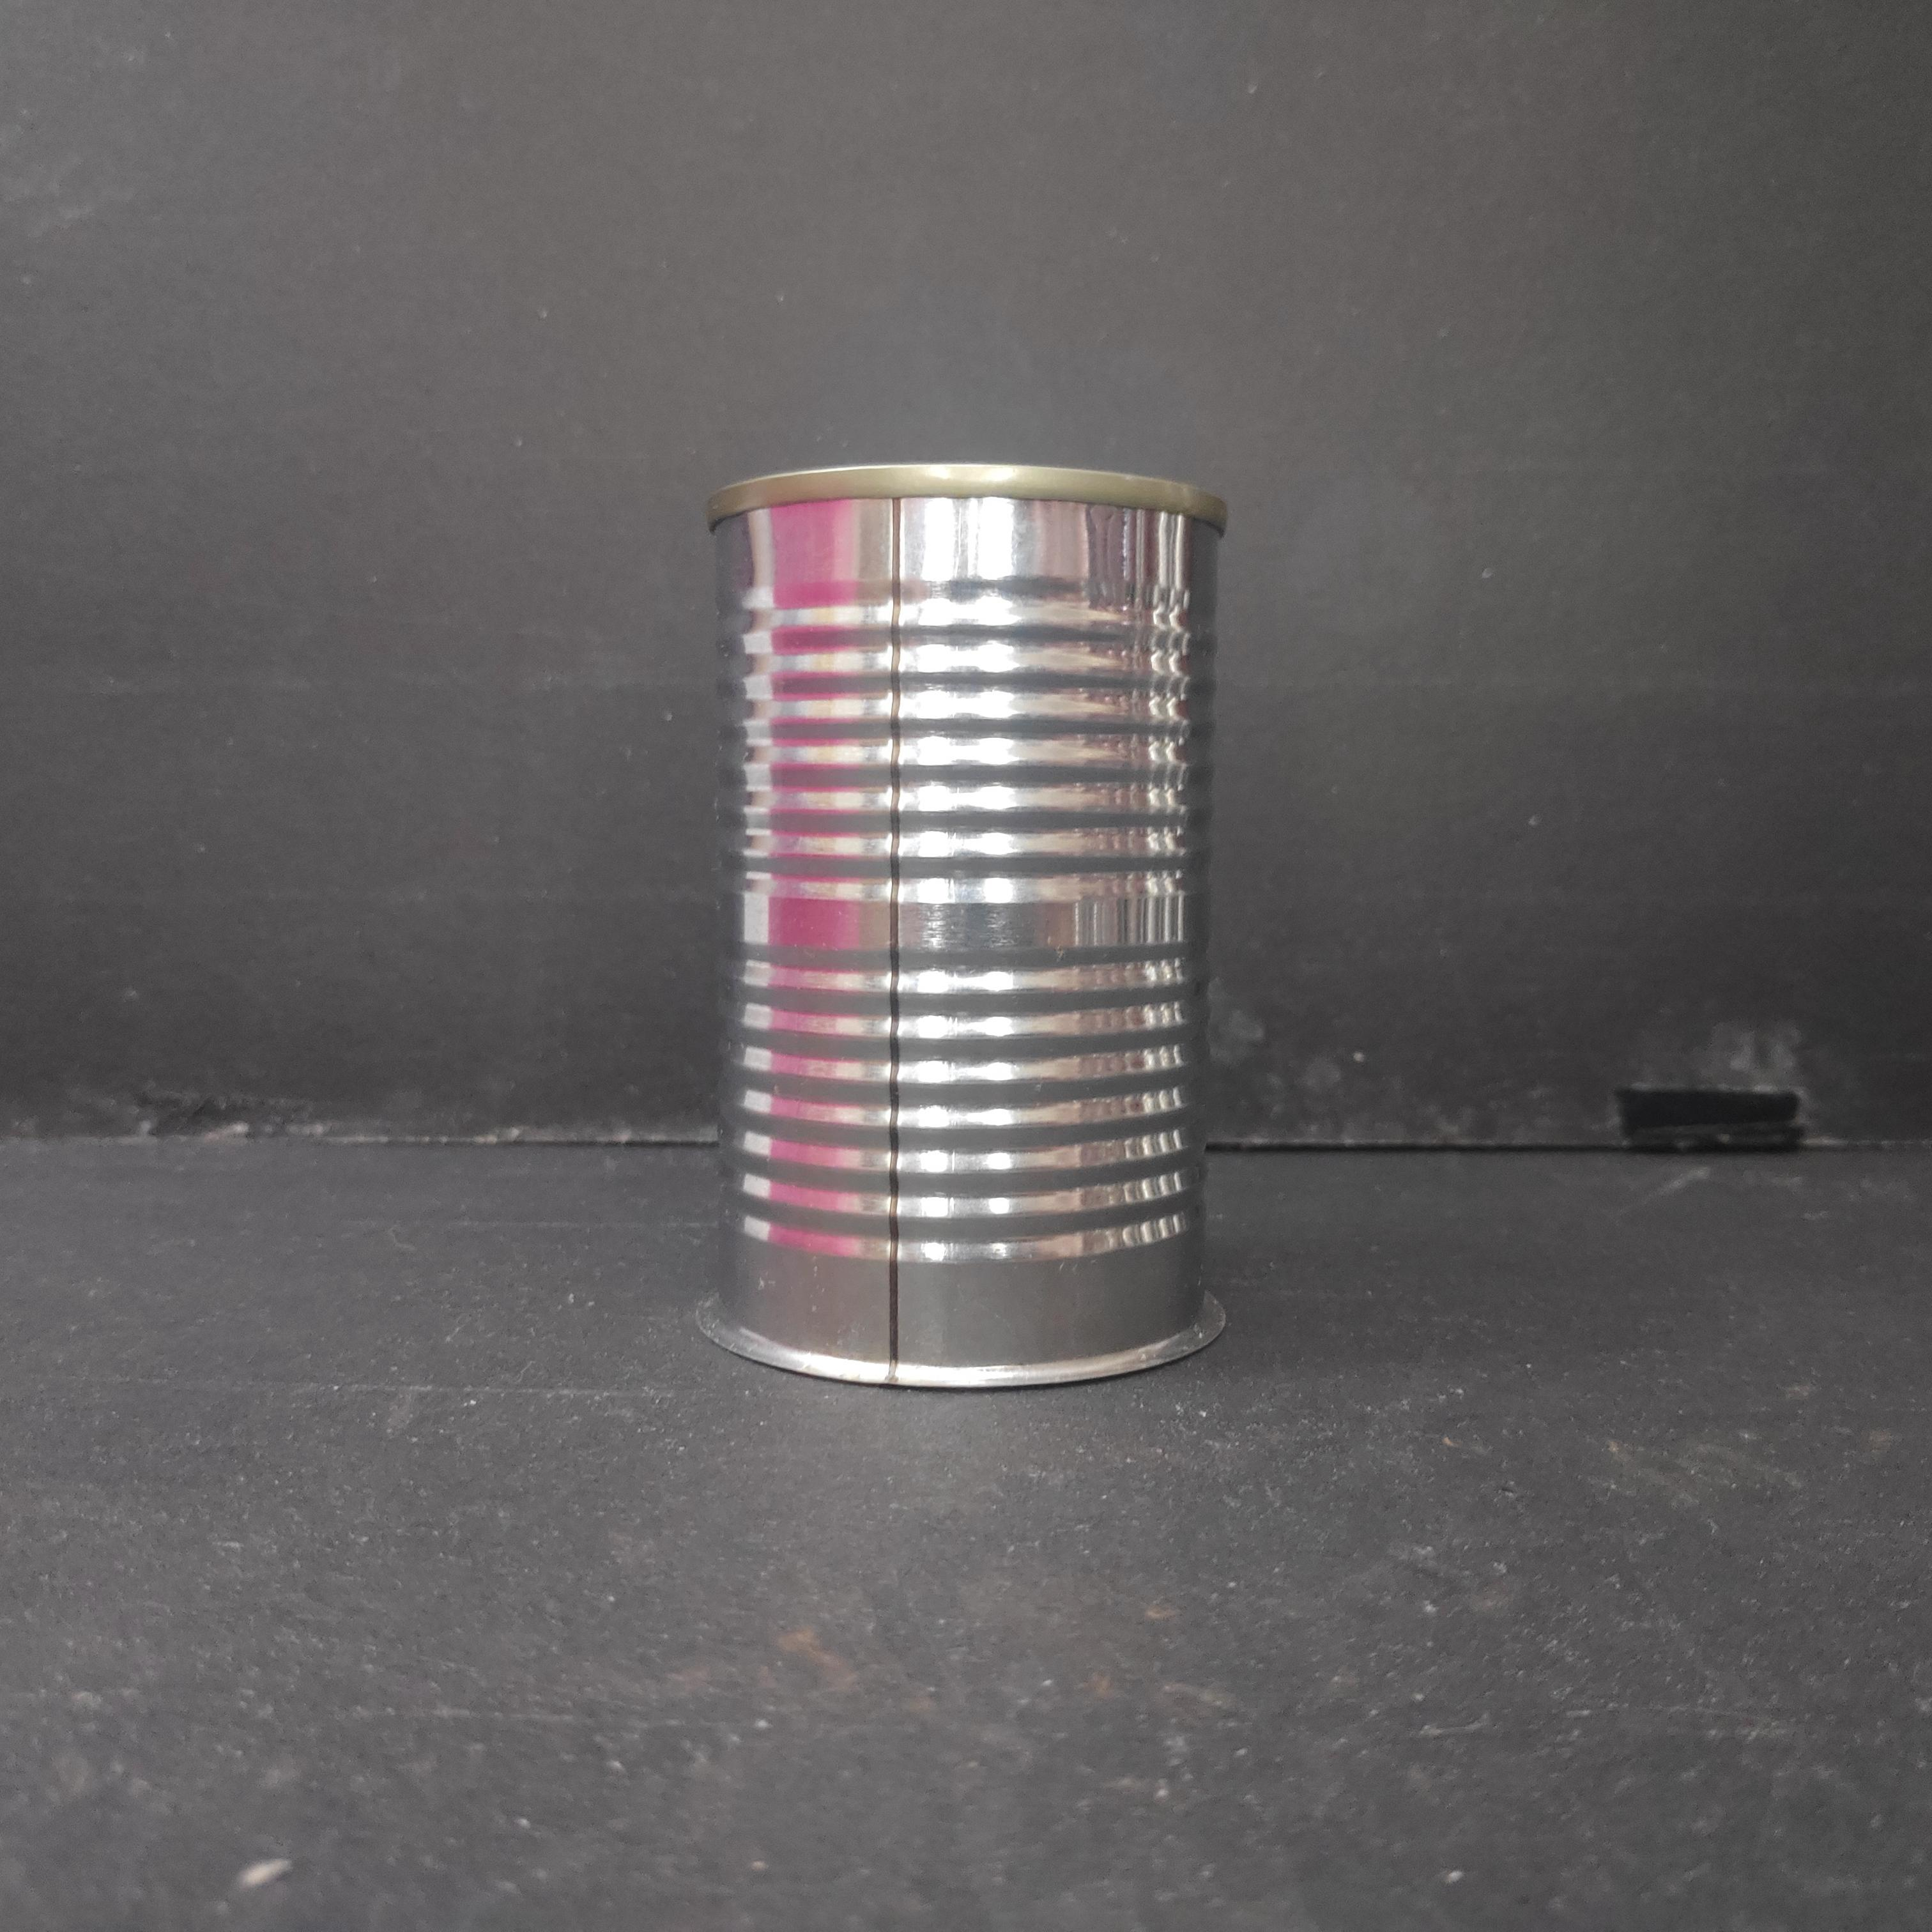No defect: (694, 458, 1237, 1399)
